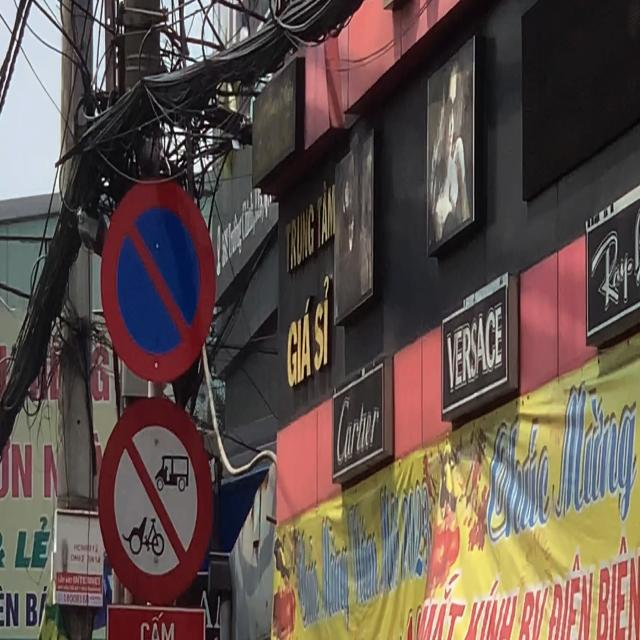Cam con lai: (96, 395, 214, 601)
Cam do: (100, 177, 218, 384)
